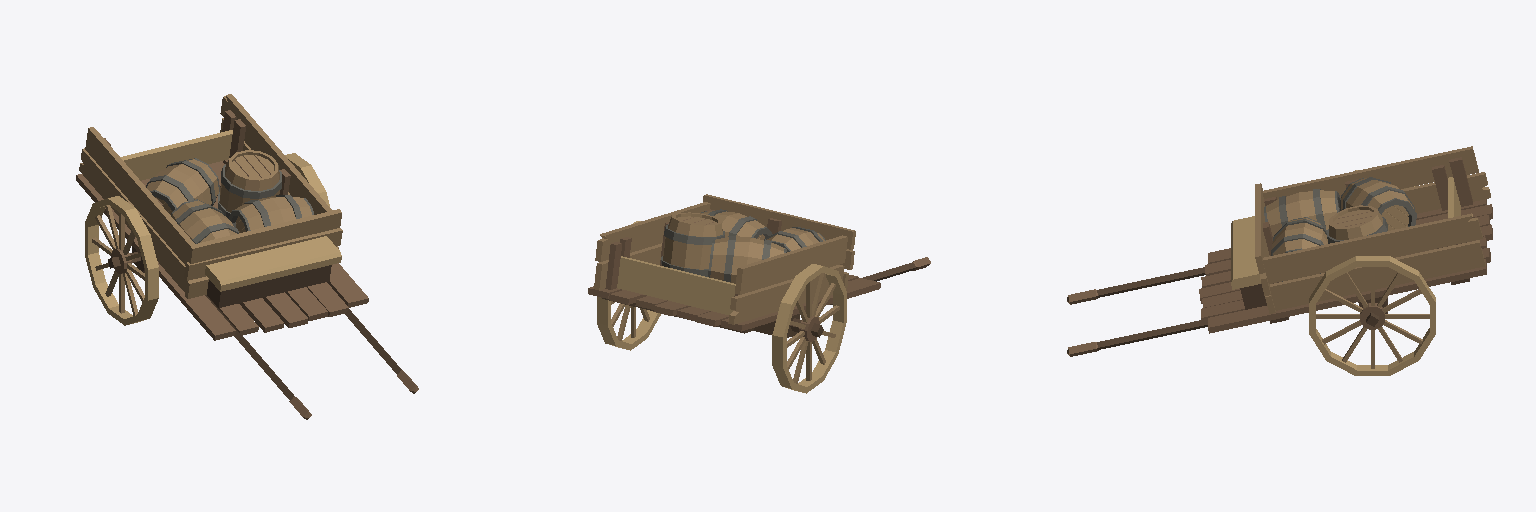
File: Prop_Cart_1_Barrels.obj
The picture shows the model from 3 angles: view 1: azimuth 30°, elevation 25°; view 2: azimuth 150°, elevation 25°; view 3: azimuth 270°, elevation 25°; orthographic projection.
Parts seen in each view (by area): view 1: object9, object35, object1, object40, object20, object39, object34, object21, object38, object10, object32, object6 (+11 smaller); view 2: object34, object35, object1, object40, object39, object6, object32, object20, object21, object31, object38, object10 (+5 smaller); view 3: object21, object24, object31, object1, object8, object7, object39, object9, object41, object40, object38, object32 (+7 smaller).
Boxes of the visible parts, x1=… form: object9: x1=205, y1=236, x2=341, y2=307; object35: x1=85, y1=196, x2=158, y2=325; object1: x1=85, y1=127, x2=194, y2=265; object40: x1=218, y1=150, x2=281, y2=218; object20: x1=188, y1=209, x2=341, y2=263; object39: x1=146, y1=158, x2=219, y2=214; object34: x1=120, y1=130, x2=232, y2=180; object21: x1=220, y1=94, x2=332, y2=214; object38: x1=229, y1=195, x2=313, y2=232; object10: x1=76, y1=174, x2=235, y2=340; object32: x1=79, y1=148, x2=186, y2=291; object6: x1=92, y1=205, x2=144, y2=315; object34: x1=617, y1=256, x2=735, y2=314; object35: x1=772, y1=264, x2=846, y2=393; object1: x1=735, y1=235, x2=847, y2=294; object40: x1=661, y1=212, x2=724, y2=276; object39: x1=708, y1=236, x2=786, y2=283; object6: x1=787, y1=273, x2=839, y2=383; object32: x1=728, y1=265, x2=844, y2=324; object20: x1=703, y1=194, x2=855, y2=249; object21: x1=595, y1=202, x2=710, y2=261; object31: x1=597, y1=221, x2=660, y2=350; object38: x1=700, y1=209, x2=772, y2=239; object10: x1=721, y1=278, x2=880, y2=331; object21: x1=1263, y1=213, x2=1482, y2=283; object24: x1=1270, y1=240, x2=1485, y2=310; object31: x1=1309, y1=256, x2=1435, y2=375; object1: x1=1263, y1=146, x2=1478, y2=199; object8: x1=1208, y1=259, x2=1486, y2=333; object7: x1=1316, y1=267, x2=1429, y2=368; object39: x1=1340, y1=177, x2=1416, y2=230; object9: x1=1231, y1=216, x2=1266, y2=309; object41: x1=1264, y1=189, x2=1340, y2=236; object40: x1=1327, y1=205, x2=1387, y2=243; object38: x1=1271, y1=217, x2=1327, y2=281; object32: x1=1401, y1=172, x2=1490, y2=213.
Bounding box in the file's own units: 1.8 × 1.3 × 3.36.